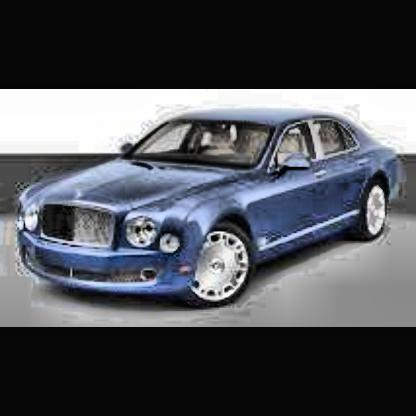Bentley Mulsanne Sedan 2011: (15, 109, 403, 314)
